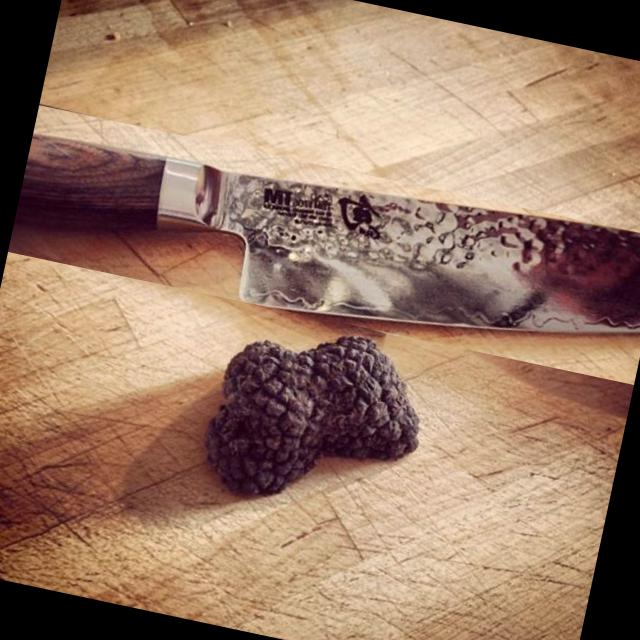Knife: (19, 134, 640, 333)
